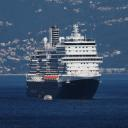cruises: (26, 24, 104, 102)
